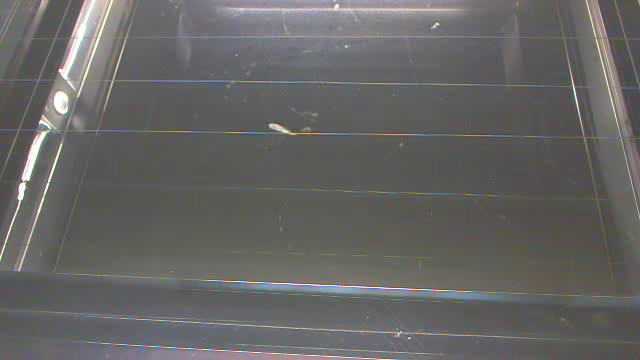alpha: (267, 122, 302, 137)
